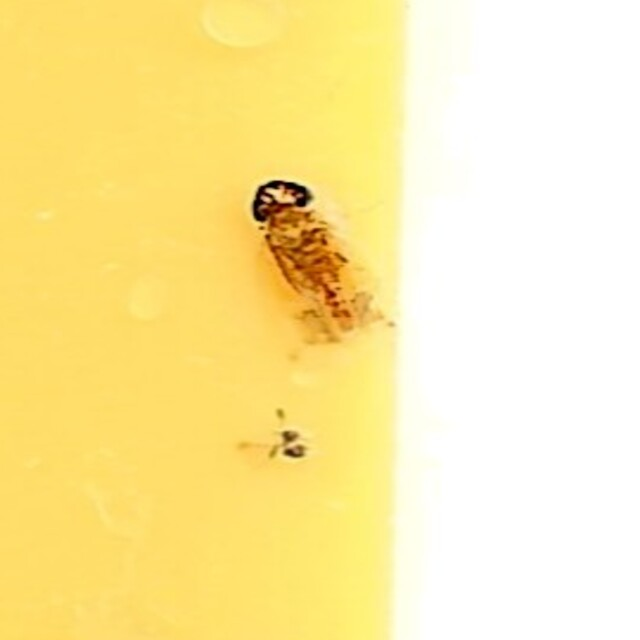Hemiptera: (237, 175, 403, 351)
Hymenoptera: (237, 409, 311, 465)
